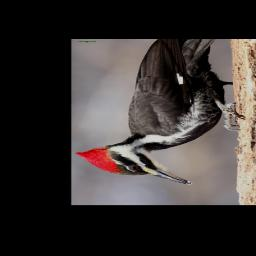Woodpecker: (75, 39, 241, 187)
